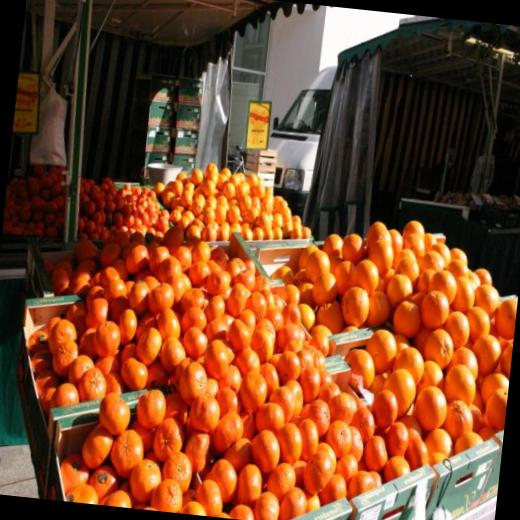Grape: (96, 385, 132, 446)
